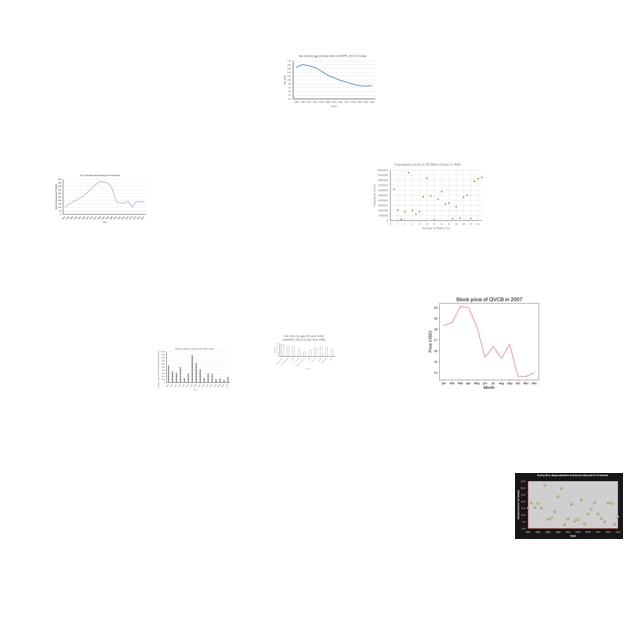Graph: (421, 291, 554, 391), (373, 161, 485, 231), (515, 473, 623, 539), (281, 53, 377, 108), (53, 173, 147, 224), (156, 347, 231, 391), (272, 333, 336, 370)
